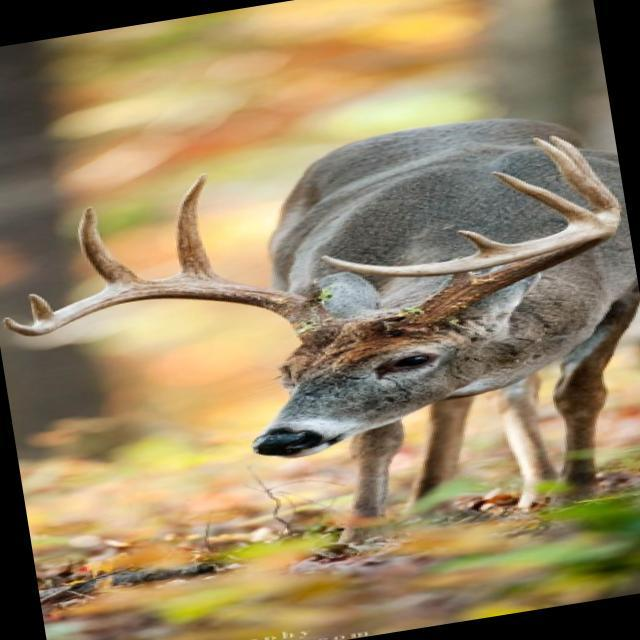L-F: (321, 208, 623, 330)
L-G3: (530, 136, 621, 214)
L-G4: (490, 171, 593, 225)
L-G5: (455, 230, 509, 253)
R-F: (2, 277, 337, 337)
R-G1: (301, 277, 324, 302)
R-G2: (176, 171, 218, 276)
R-G3: (78, 206, 143, 288)
R-G4: (27, 293, 54, 324)
